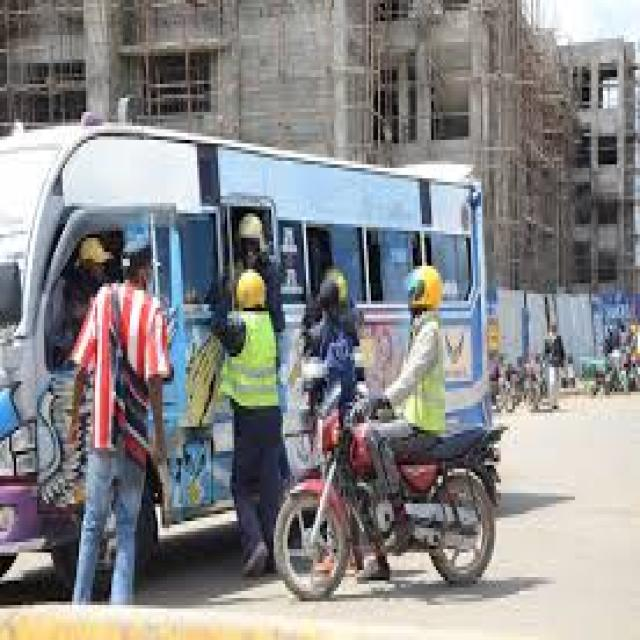bodaboda: (275, 397, 531, 614)
bus: (0, 70, 264, 591)
